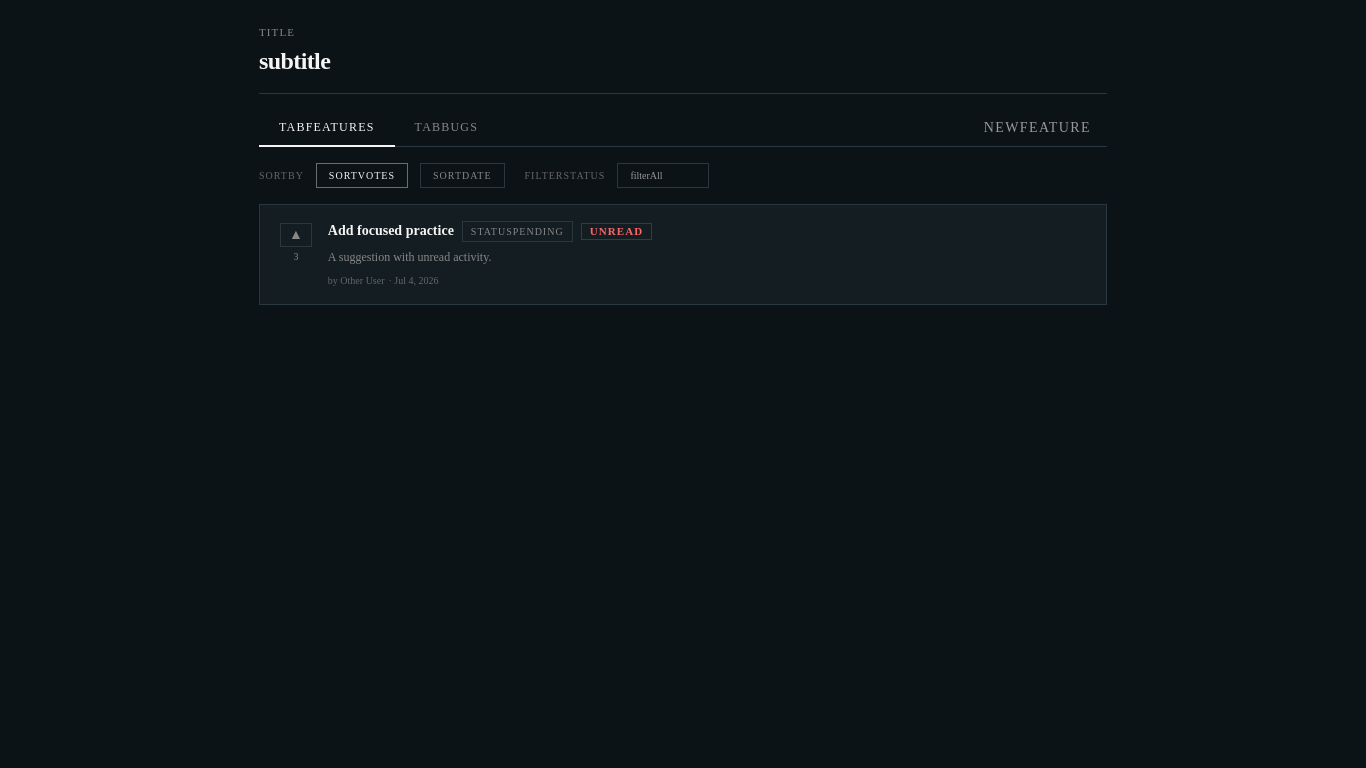
Test case: FeedbackPage list and entry actions › posts a trimmed detail comment and confirms its deletion
The width and height of the screenshot is (1366, 768).
Click the text "Add focused practice". click: point(391, 231)
box: [328,221,454,241]
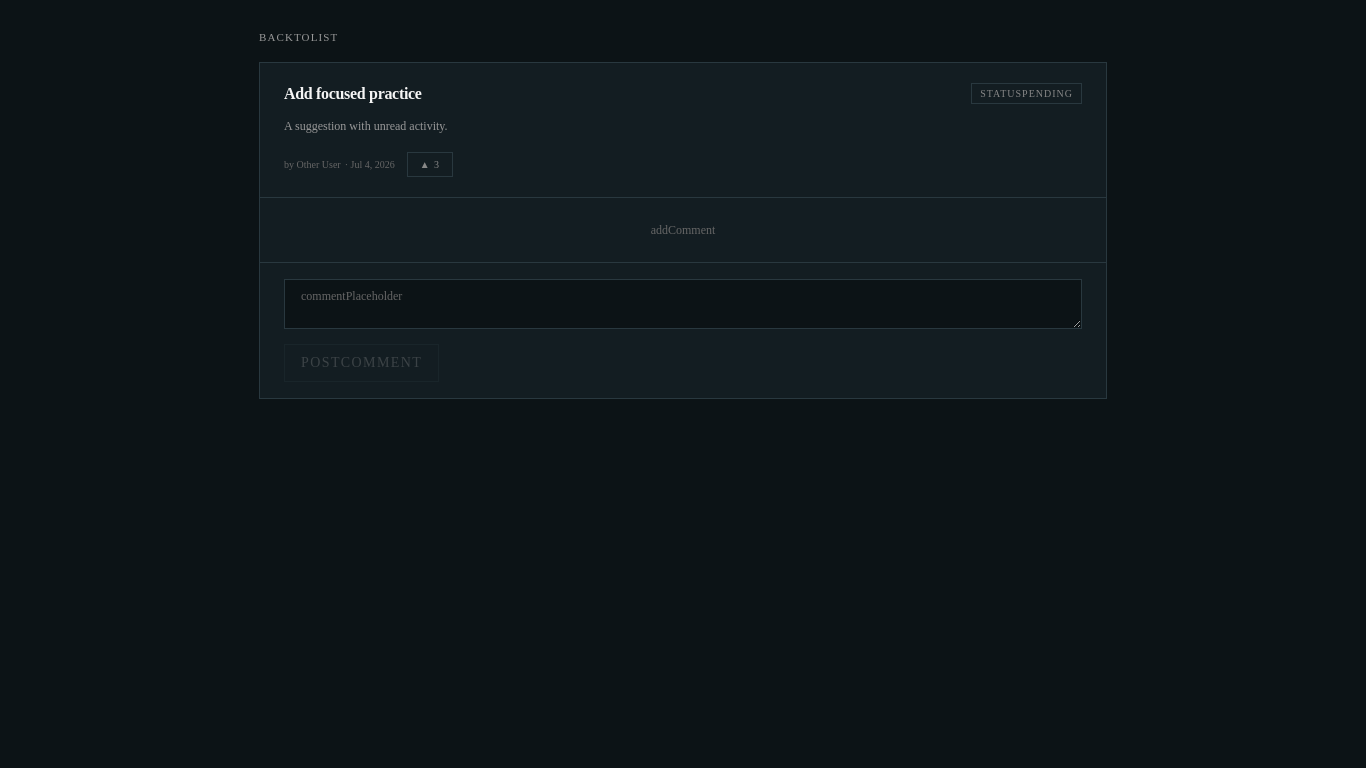
Type "  A clear, concise comment.  " into the text box with placeholder "commentPlaceholder". click: point(683, 304)
box: [284,279,1082,329]
Click the button "postComment". click: point(362, 363)
box: [284,344,439,382]
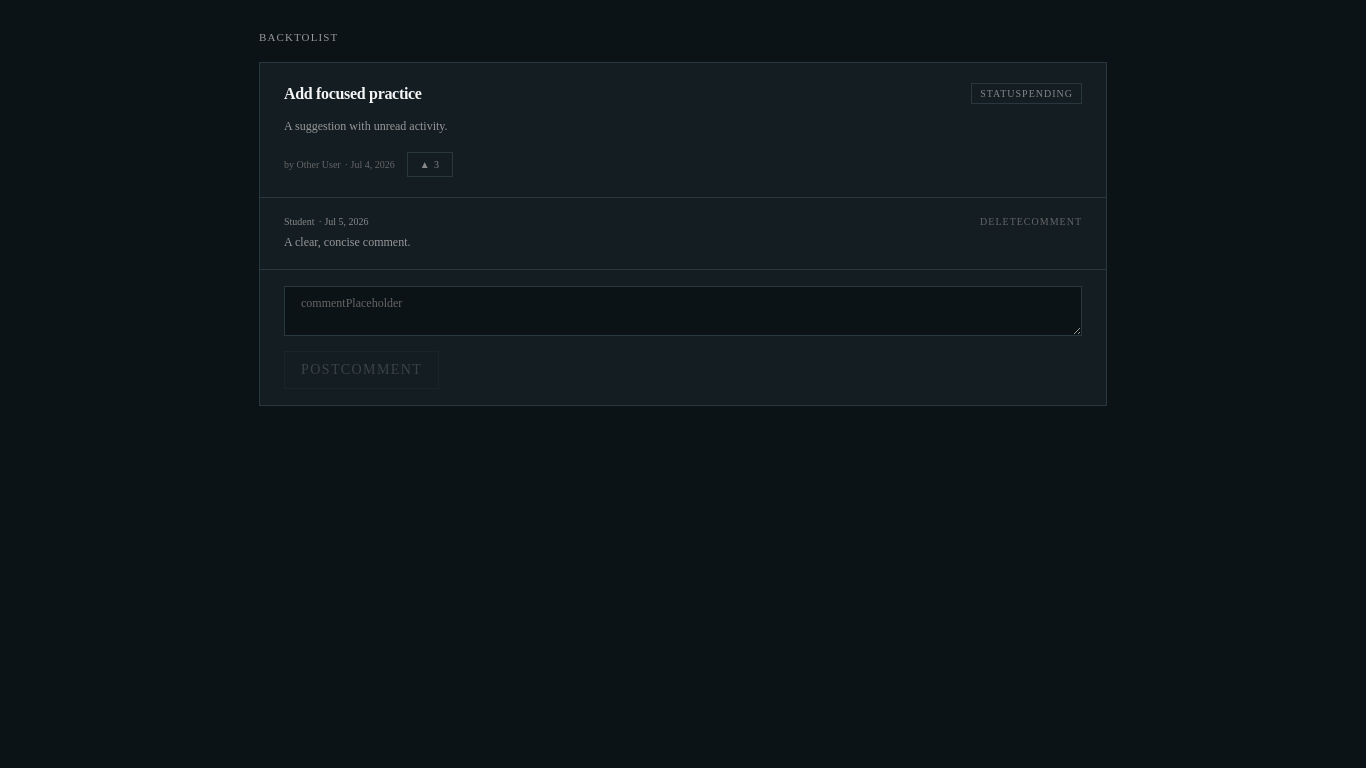
Expected: the text box "A clear, concise comment." is empty, [284,286,1082,336]
Click the button "deleteComment". click: point(1031, 222)
box: [980,214,1082,229]
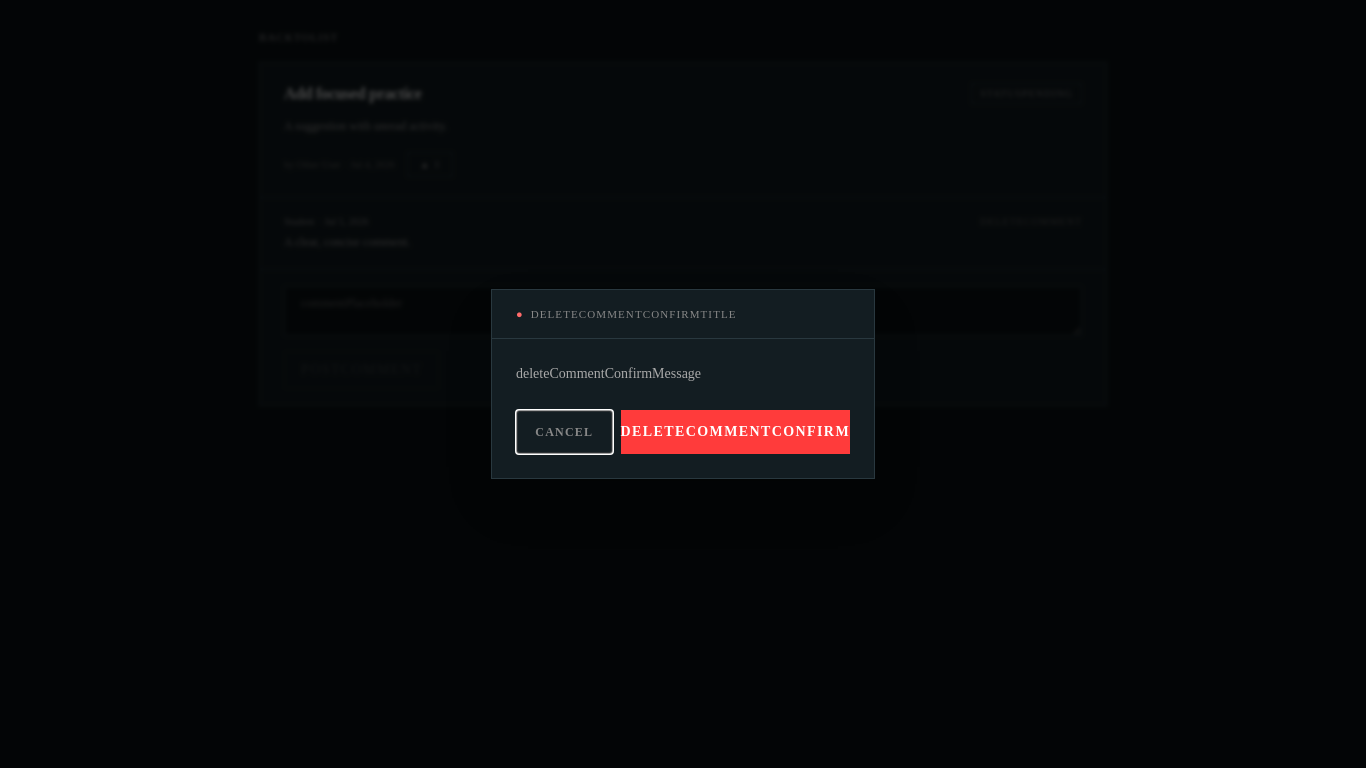
Expected: the dialog is shown, [491,289,875,479]
Click the button "cancel". click: point(564, 432)
box: [516,410,612,454]
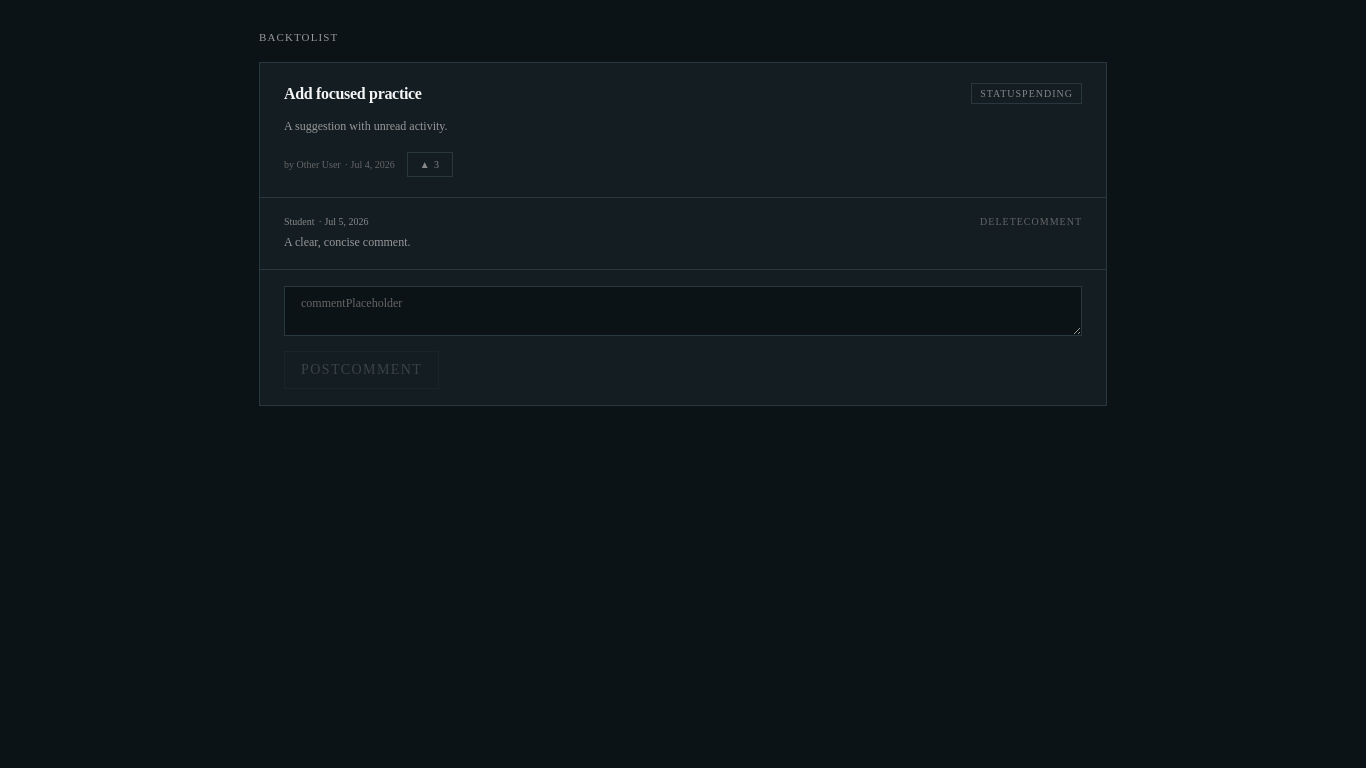
Expected: the text "A clear, concise comment." is shown, [284,235,410,249]
Expected: the dialog is gone
Click the button "deleteComment". click: point(1031, 222)
box: [980,214,1082,229]
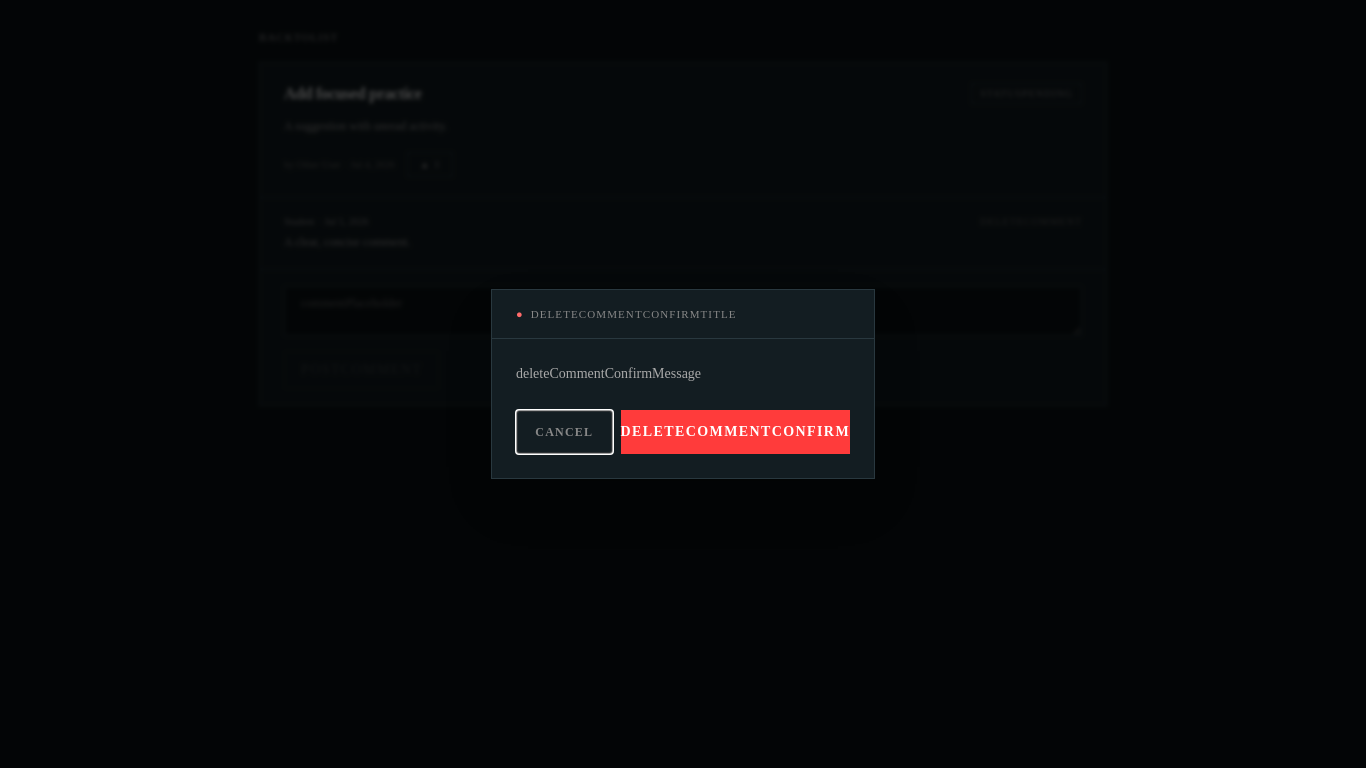
Click the button "deleteCommentConfirm". click: point(735, 432)
box: [620,410,850,454]
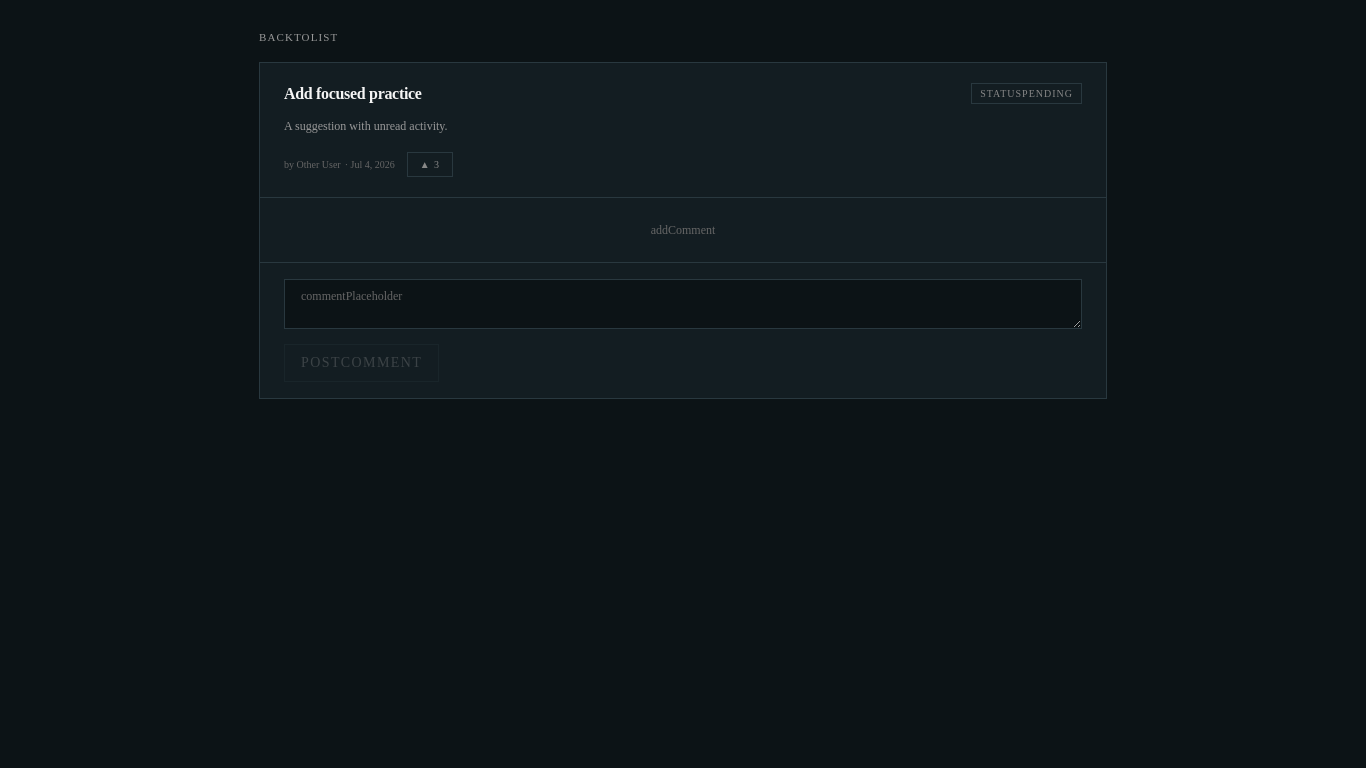
Expected: the dialog is gone
Expected: the text "A clear, concise comment." is gone
